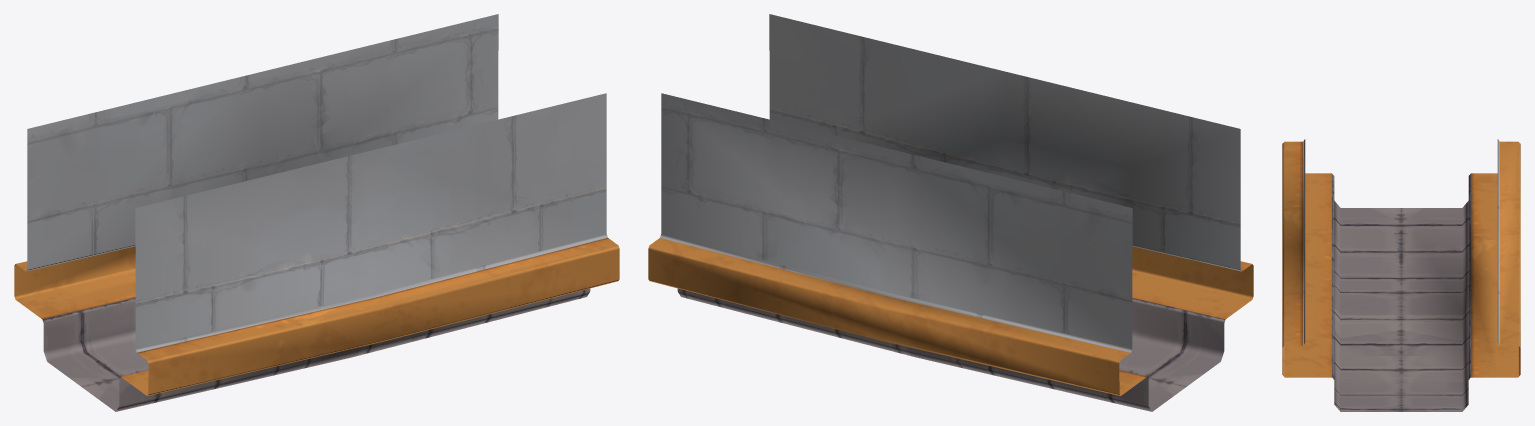
File: SM_WallArchBar.fbx
3 renders of one model, left to right at view 1: azimuth 30°, elevation 25°; view 2: azimuth 150°, elevation 25°; view 3: azimuth 270°, elevation 25°, orthographic. The views are drawn at different scales.
Parts seen in each view (by area): view 1: SM_WallArchBar; view 2: SM_WallArchBar; view 3: SM_WallArchBar.
Boxes of the visible parts, x1,y1,x2,y2 form: SM_WallArchBar: [14, 14, 619, 411]; SM_WallArchBar: [648, 14, 1253, 411]; SM_WallArchBar: [1282, 139, 1520, 411].
Bounding box in the file's own units: 2 × 0.898 × 0.9877.
